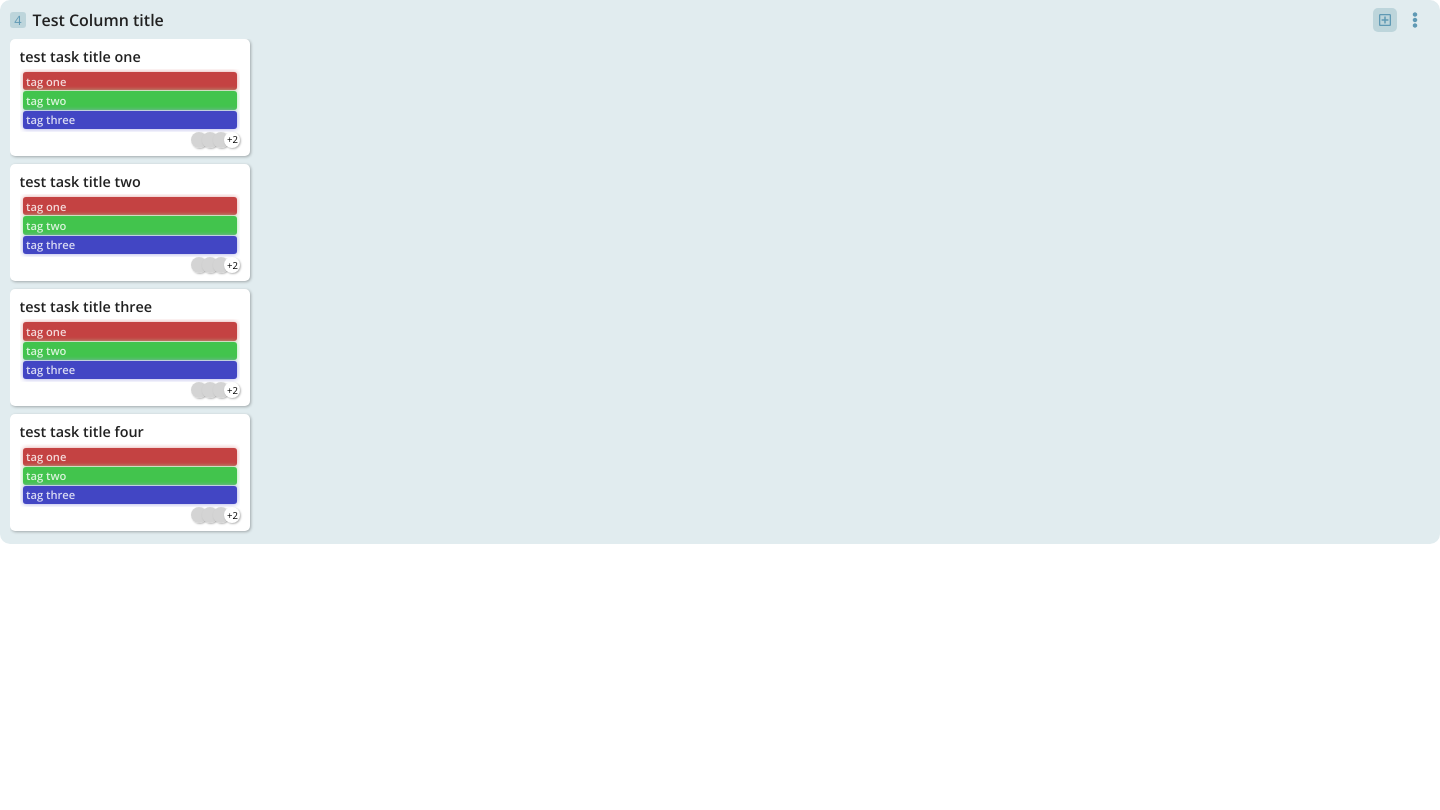
Test Component - Column › should display modal when clicked on add task button
What coordinates should you click on to do the following:
click the button with test id "add-task-btn"
I would click on:
 (1385, 20)
Its box is [1373,8,1397,32].
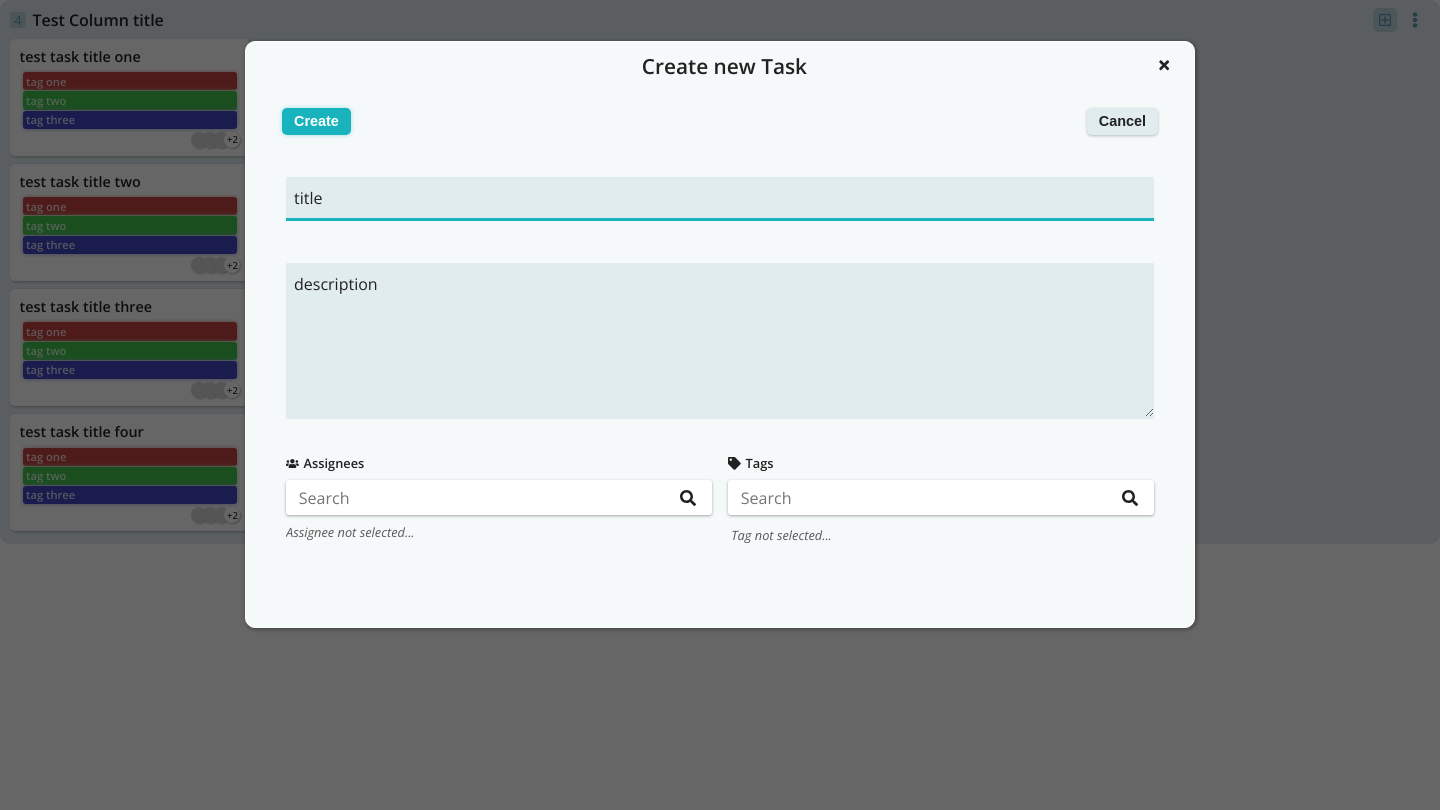
Result: the dialog is shown at [245,40,1195,628]
